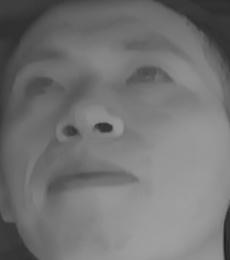eye: (125, 57, 180, 93), (18, 71, 72, 104)
mouth: (43, 150, 143, 206)
